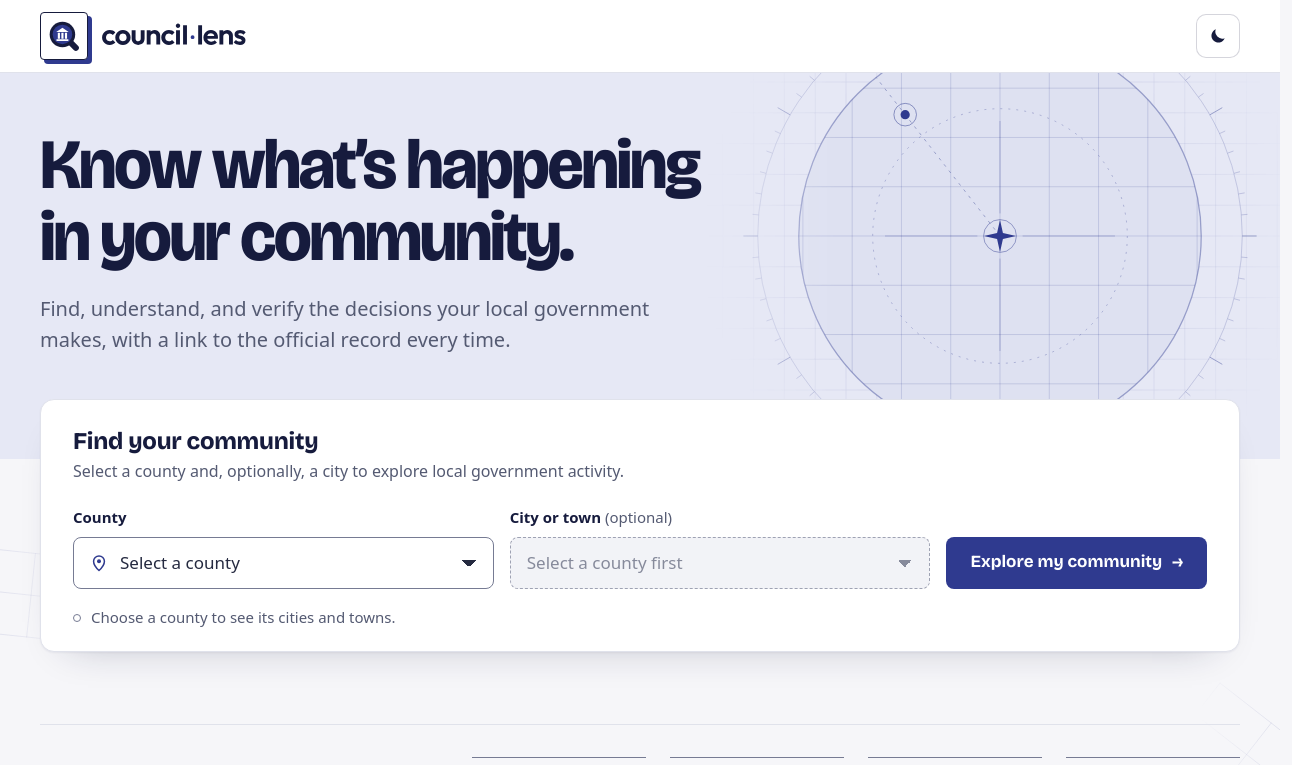
it: Location chooser › shows a county Coming Soon page for any other county
Select "Cobb County" in the dropdown labelled "County" at (283, 563), box [73,537,494,589]
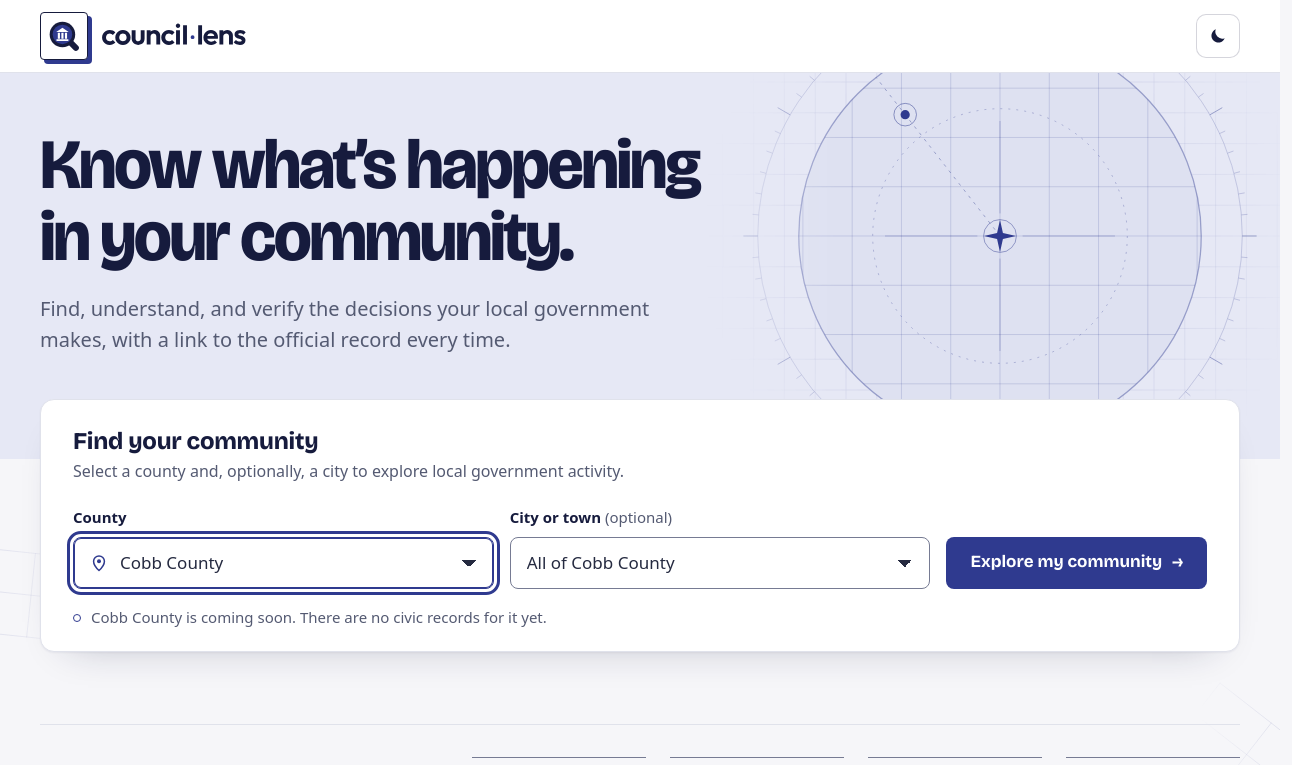
Check: the message shows "Cobb County is coming soon.", box [91,607,547,627]
Click the button "Explore my community →" at (1077, 563), box [946,537,1207,589]
(page scrolled)
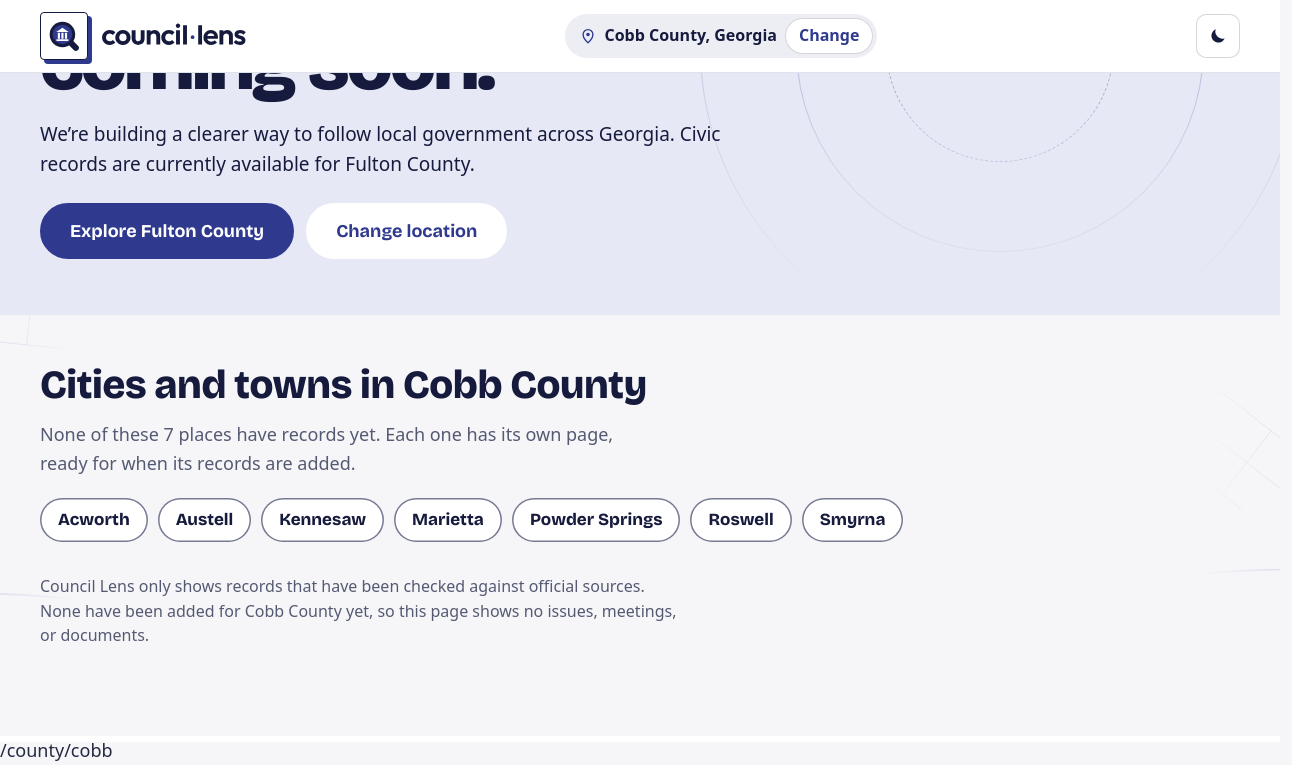
Check: the text with test id "url" reads "/county/cobb", box [0,738,112,762]
